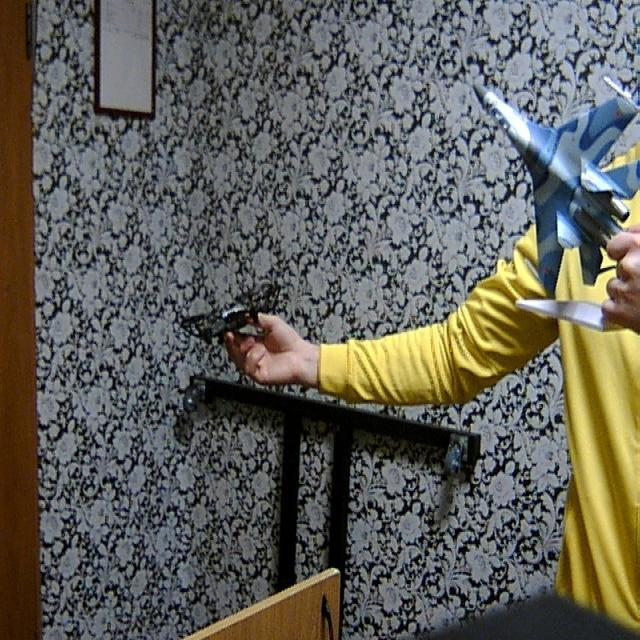drone: (172, 250, 283, 356)
